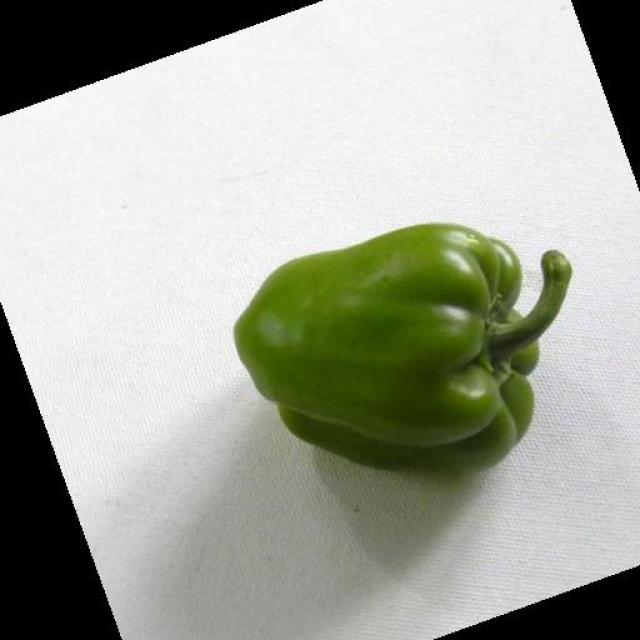Fresh_Capsicum: (228, 239, 544, 473)
